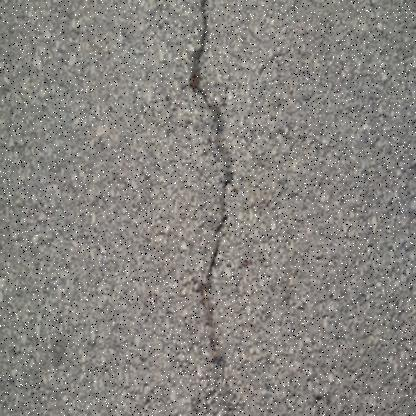Cracks: (182, 0, 238, 385)
